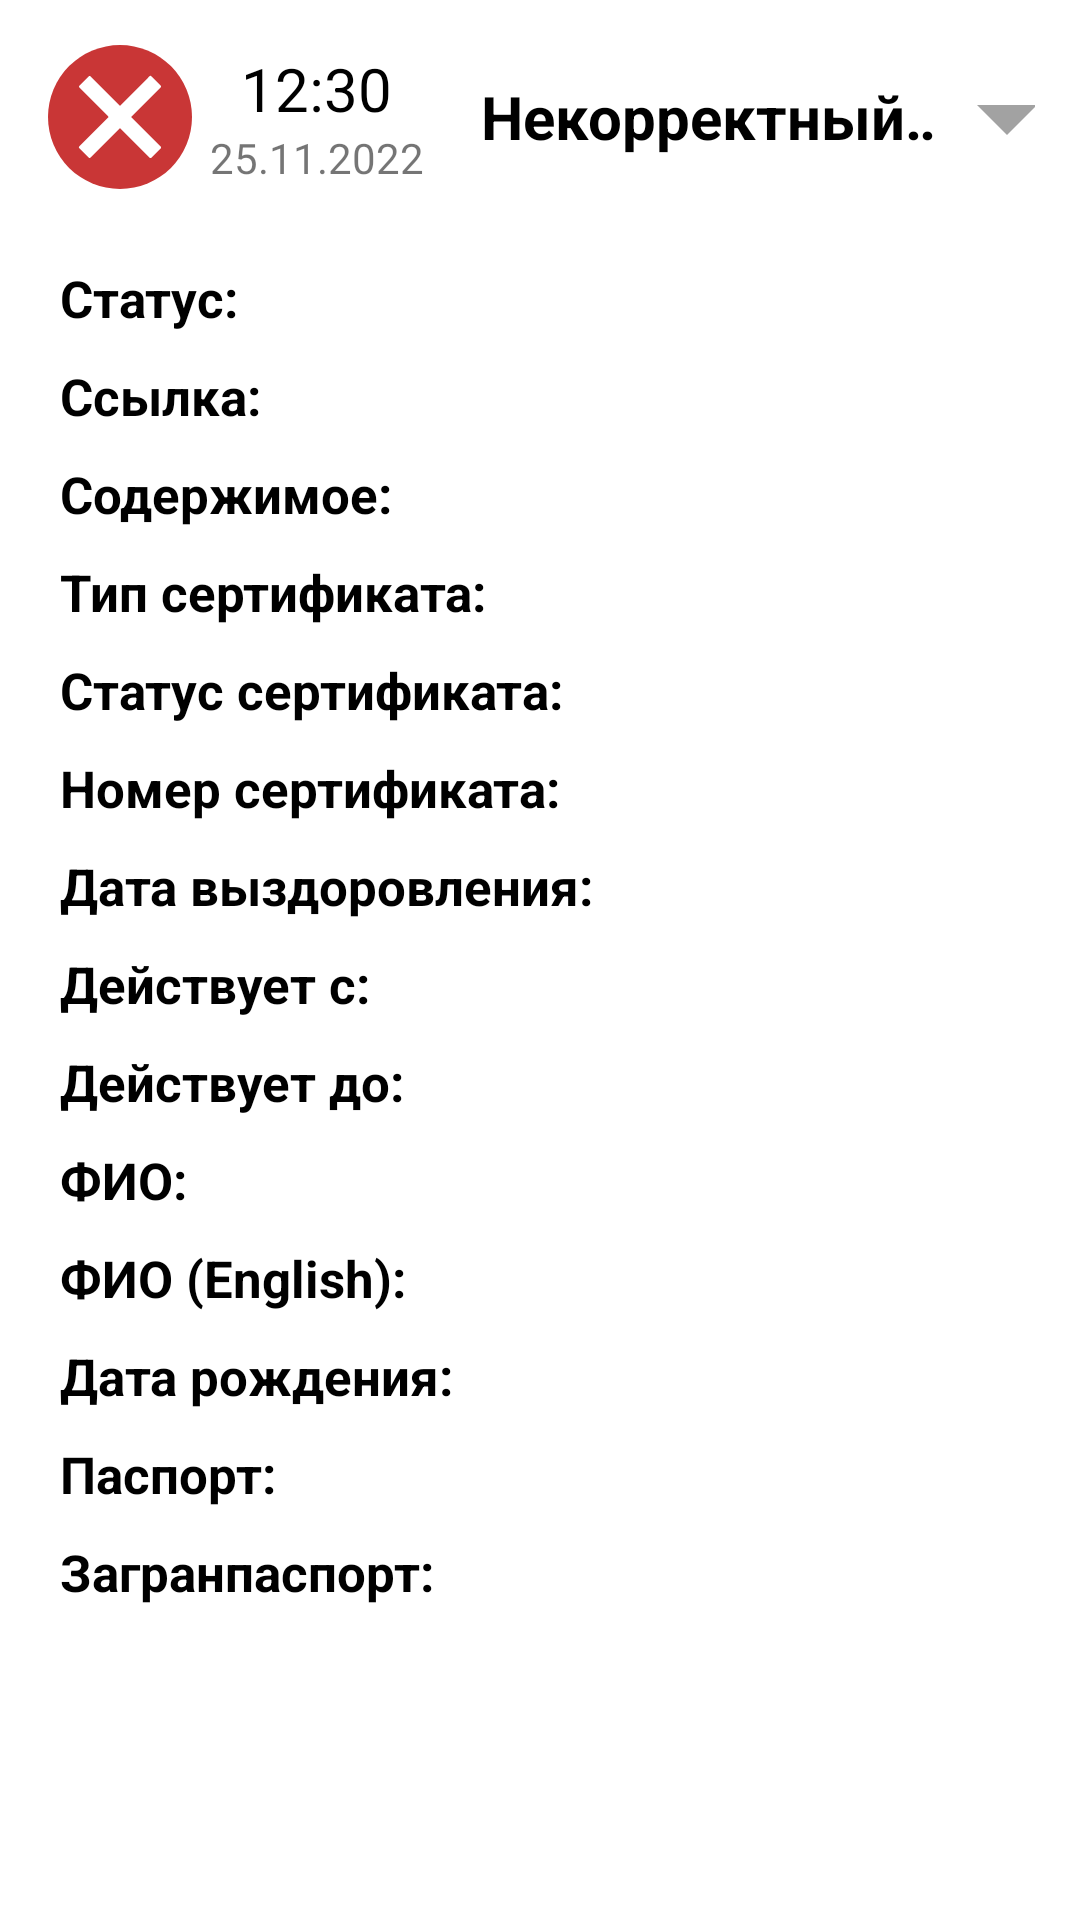

Point at icon controls on the screen. Image size 1080 × 1920, points as (x=x, y=y).
arrow drop down: (x=1006, y=120)
